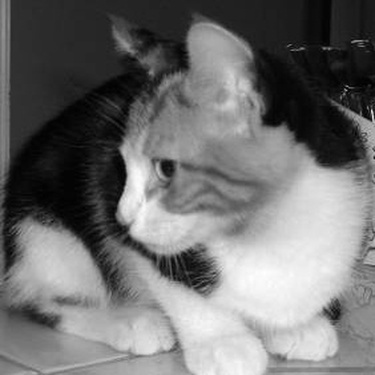cat: (1, 20, 365, 346)
